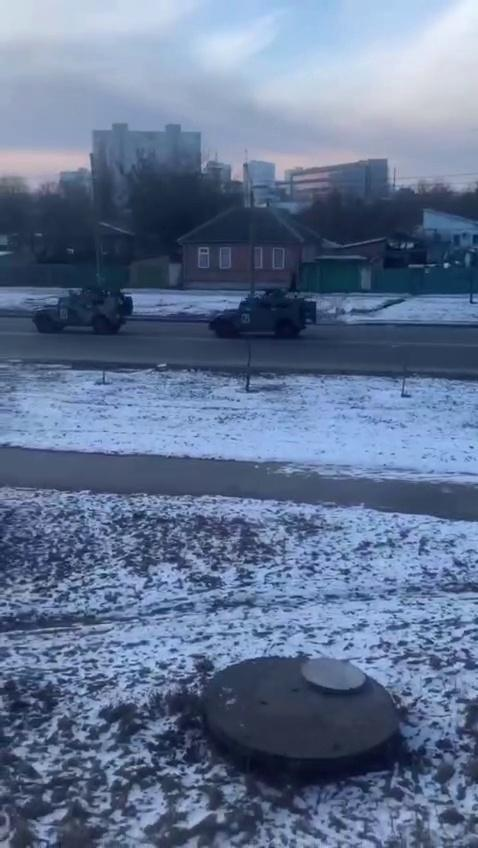armored_car: (209, 288, 318, 340), (30, 285, 133, 336)
